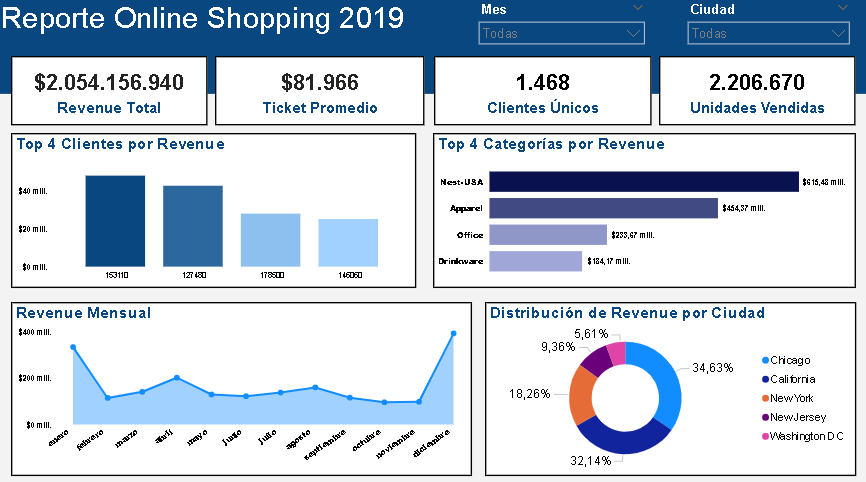

What the dashboard file says about the page in this screenshot:
{"tool":"powerbi","page":{"name":"Página 1","canvas":[1280,720],"ordinal":0},"visuals":[{"type":"columnChart","title":"Top 4 Clientes por Revenue","fields":{"Category":["Consulta1.CustomerID"],"Y":["Consulta1.Revenue"]},"box":[18.7,198.7,596.2,227.5],"z":0},{"type":"textbox","box":[0,0,1280.2,141.1],"z":5000},{"type":"donutChart","title":"Distribución de Revenue por Ciudad","fields":{"Category":["Ventas.Location"],"Y":["Ventas.Revenue"]},"box":[715.7,446.4,545.8,256.3],"z":7000},{"type":"areaChart","title":"Revenue Mensual","fields":{"Y":["Ventas.Revenue Total"],"Category":["Ventas.Transaction_Date.Variación.Jerarquía de fechas.Mes"]},"box":[18.7,446.4,678.2,256.3],"z":9000},{"type":"barChart","title":"Top 4 Categorías por Revenue","fields":{"Category":["Ventas.Product_Category"],"Y":["Ventas.Revenue Total"]},"box":[639.4,198.7,622.1,227.5],"z":10000},{"type":"slicer","fields":{"Values":["Consulta1.Location"]},"box":[1003.7,0,257.8,74.9],"z":10500},{"type":"slicer","fields":{"Values":["Consulta1.Transaction_Date.Variación.Jerarquía de fechas.Mes"]},"box":[697,0,263.5,74.9],"z":11000},{"type":"card","fields":{"Values":["Consulta1.Revenue"]},"box":[18.7,85,289.4,102.2],"z":11500},{"type":"card","fields":{"Values":["Ventas.Ticket Promedio"]},"box":[319.7,85,308.2,102.2],"z":12000},{"type":"card","fields":{"Values":["Consulta1.Clientes Únicos"]},"box":[640.8,85,319.7,102.2],"z":12500},{"type":"card","fields":{"Values":["Ventas.Productos Vendidos"]},"box":[972,85,289.4,102.2],"z":13000}]}

Visuals, with their boxes in screenshot pixels (x1, y1, x2, y2), scaled from the page's 1280x720 canvas onto the 866x482 screenshot:
"Top 4 Clientes por Revenue" columnChart: x1=13, y1=133, x2=416, y2=285
textbox: x1=0, y1=0, x2=865, y2=94
"Distribución de Revenue por Ciudad" donutChart: x1=484, y1=299, x2=853, y2=470
"Revenue Mensual" areaChart: x1=13, y1=299, x2=471, y2=470
"Top 4 Categorías por Revenue" barChart: x1=433, y1=133, x2=853, y2=285
slicer - Consulta1.Location: x1=679, y1=0, x2=853, y2=50
slicer - Consulta1.Transaction_Date.Variación.Jerarquía de fechas.Mes: x1=472, y1=0, x2=650, y2=50
card - Consulta1.Revenue: x1=13, y1=57, x2=208, y2=125
card - Ventas.Ticket Promedio: x1=216, y1=57, x2=425, y2=125
card - Consulta1.Clientes Únicos: x1=434, y1=57, x2=650, y2=125
card - Ventas.Productos Vendidos: x1=658, y1=57, x2=853, y2=125
